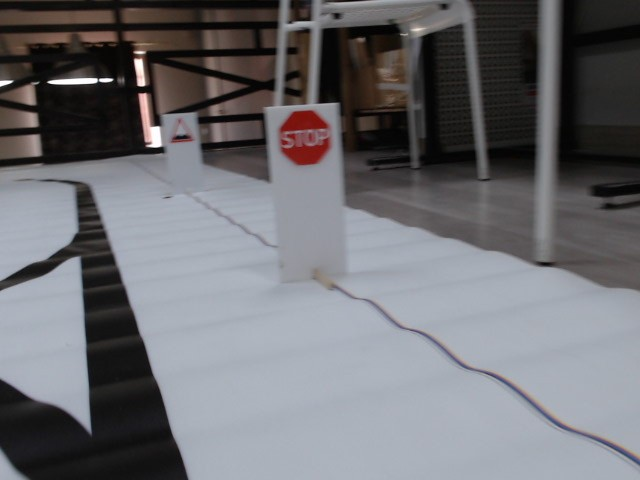Nerov: (170, 118, 194, 143)
Stop: (276, 109, 332, 167)
